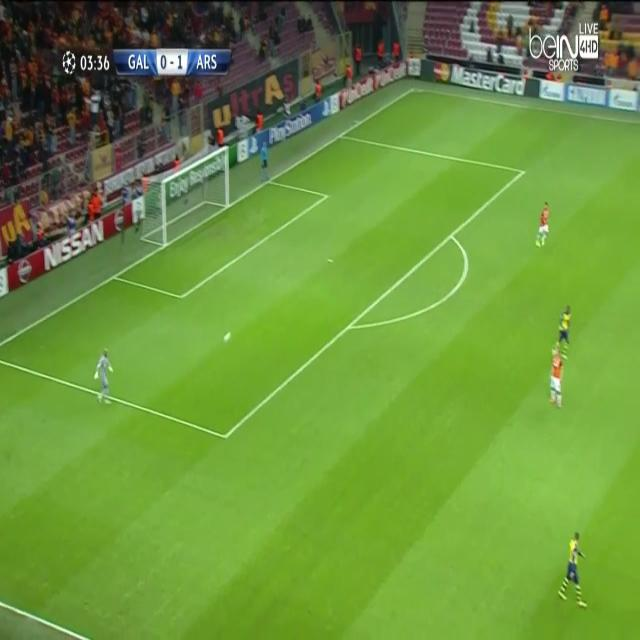Ball: (223, 331, 231, 346)
Player: (557, 528, 589, 610), (92, 346, 114, 410), (547, 340, 565, 414), (534, 196, 554, 248), (558, 306, 572, 360)
Referee: (258, 139, 270, 187)
